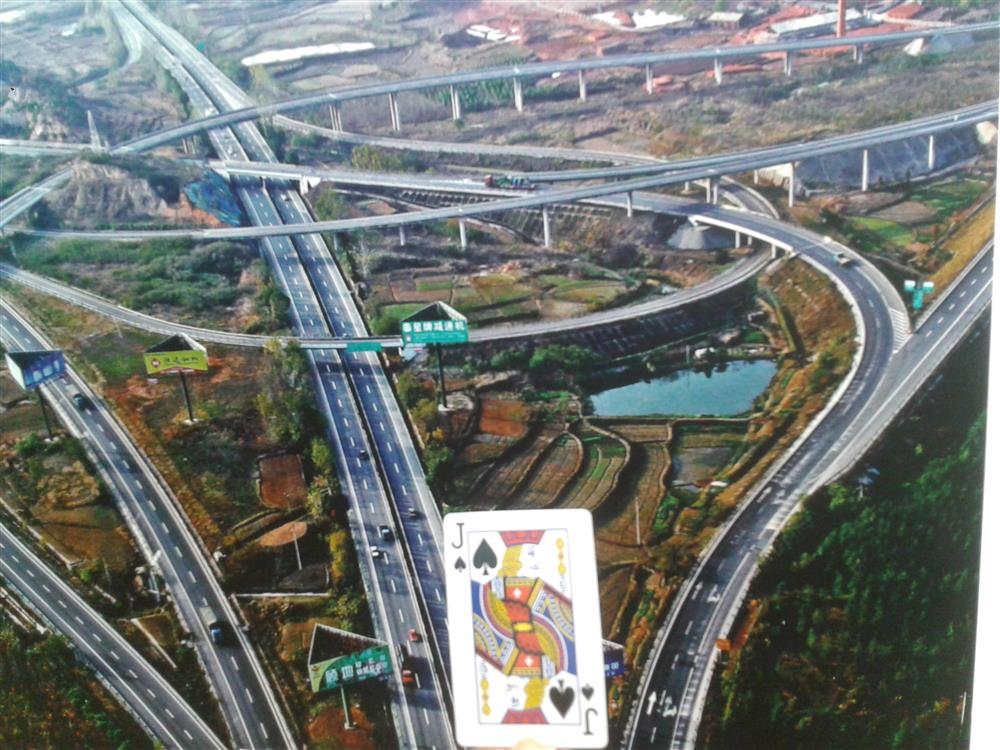poker: (432, 507, 612, 740)
